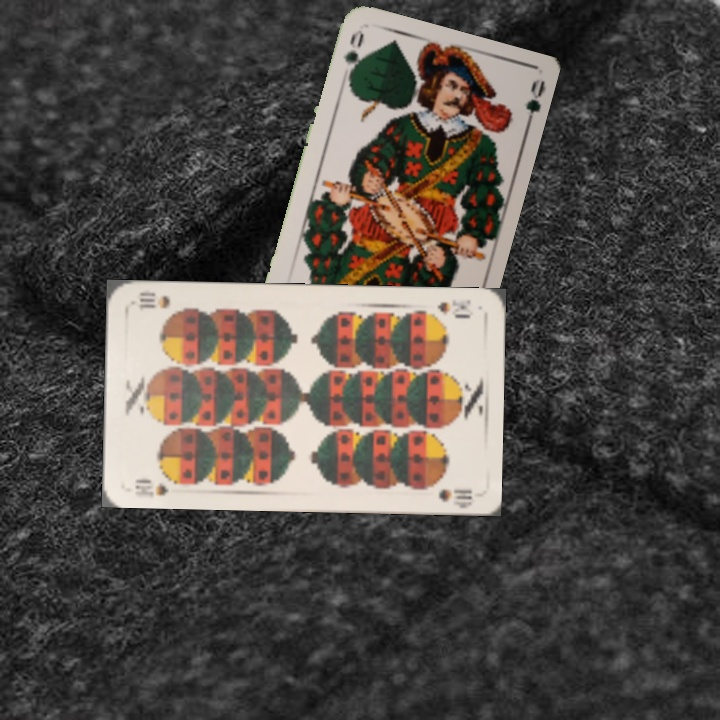GO: (339, 28, 362, 88)
S10: (131, 473, 186, 500), (434, 295, 473, 317)
